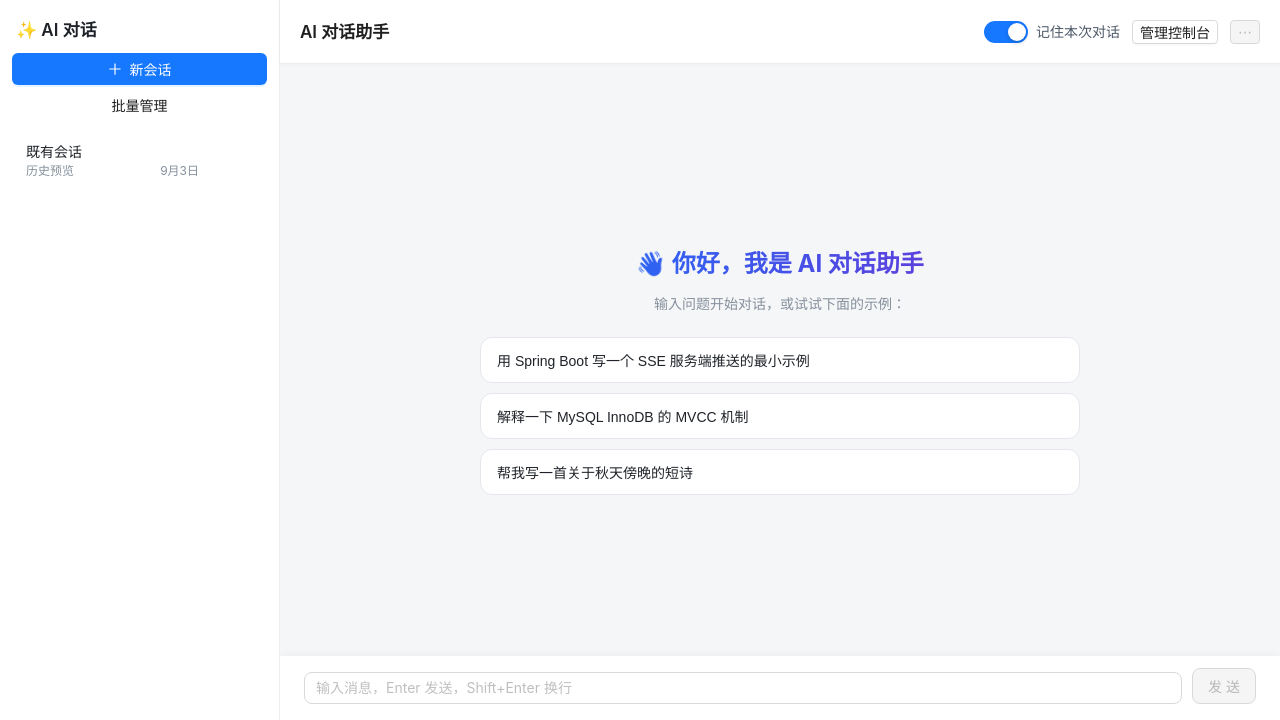
App 集成（AC-17~29） › 流式中切换会话被阻止：提示「生成中，请先停止」且不加载历史
Type "提问中" into the text box with test id "chat-input".
click(743, 688); type("提问中")  # box top-left (304, 672), bottom-right (1182, 704)
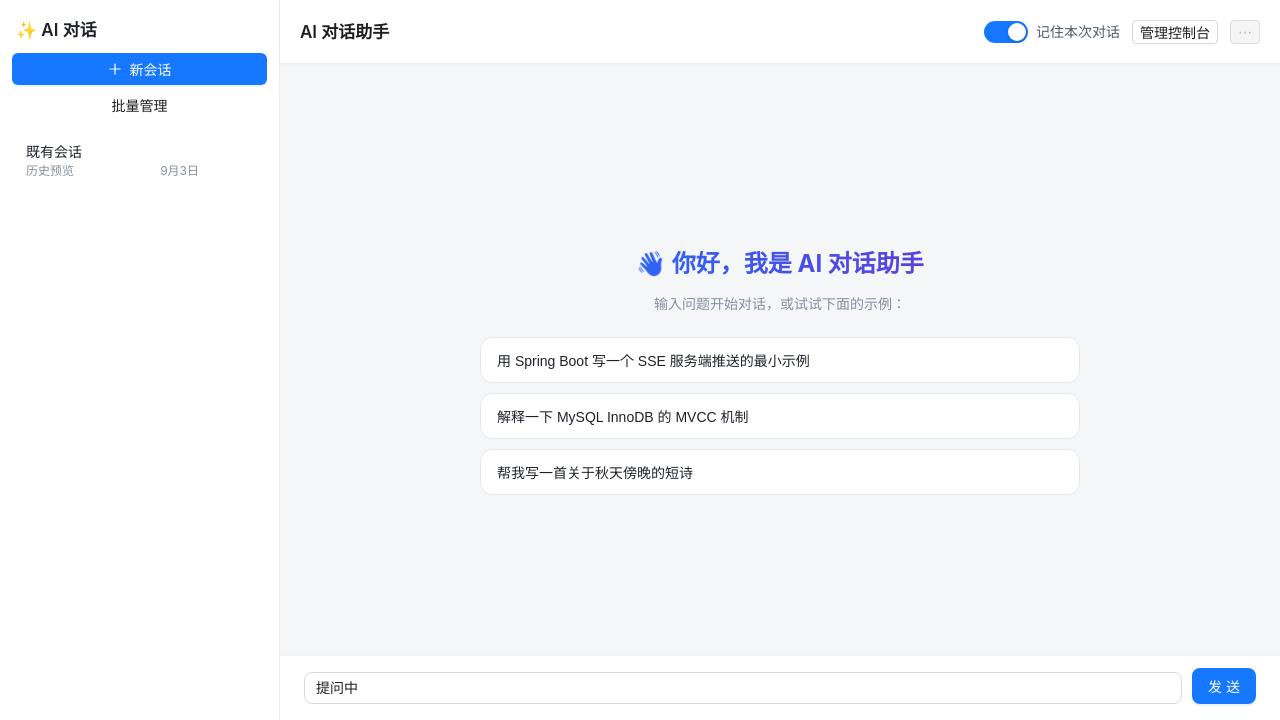
Click the button with test id "chat-send".
click(1224, 686)  # box top-left (1192, 668), bottom-right (1256, 704)
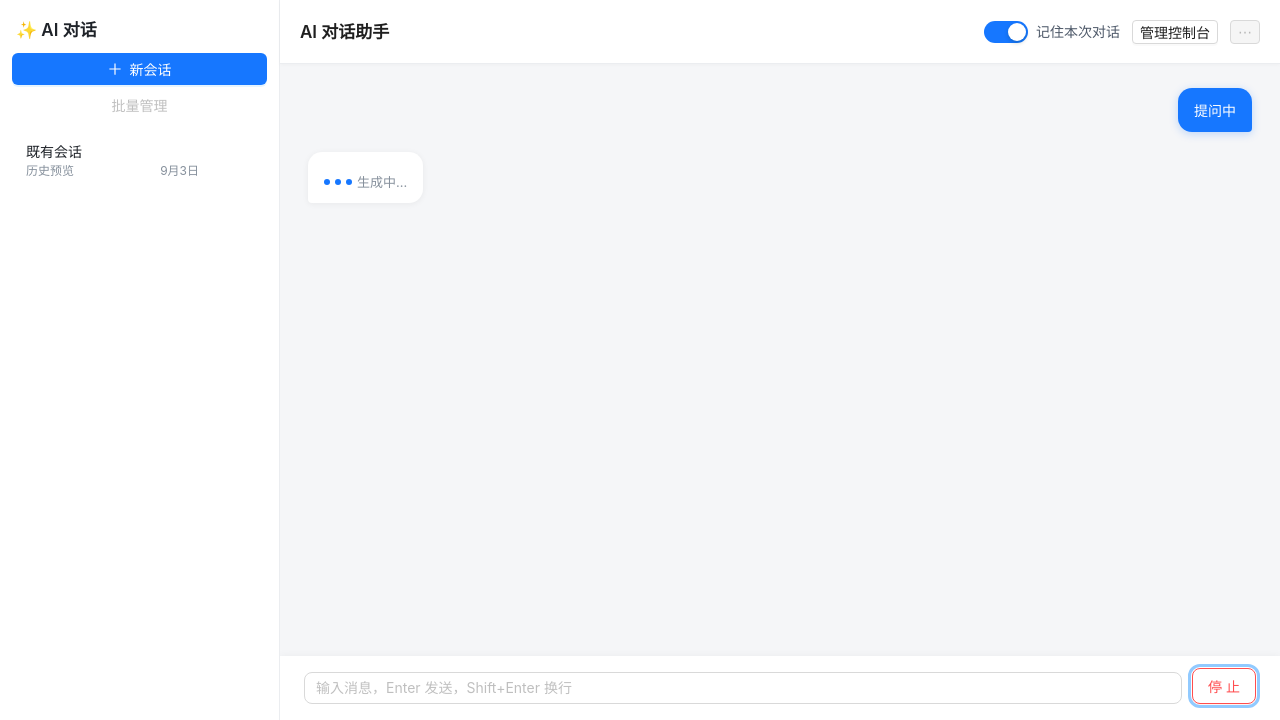
Now the text "提问中" is shown, box top-left (1194, 100), bottom-right (1236, 120)
Click the button "既有会话 9月3日 历史预览".
click(112, 160)  # box top-left (22, 137), bottom-right (203, 182)
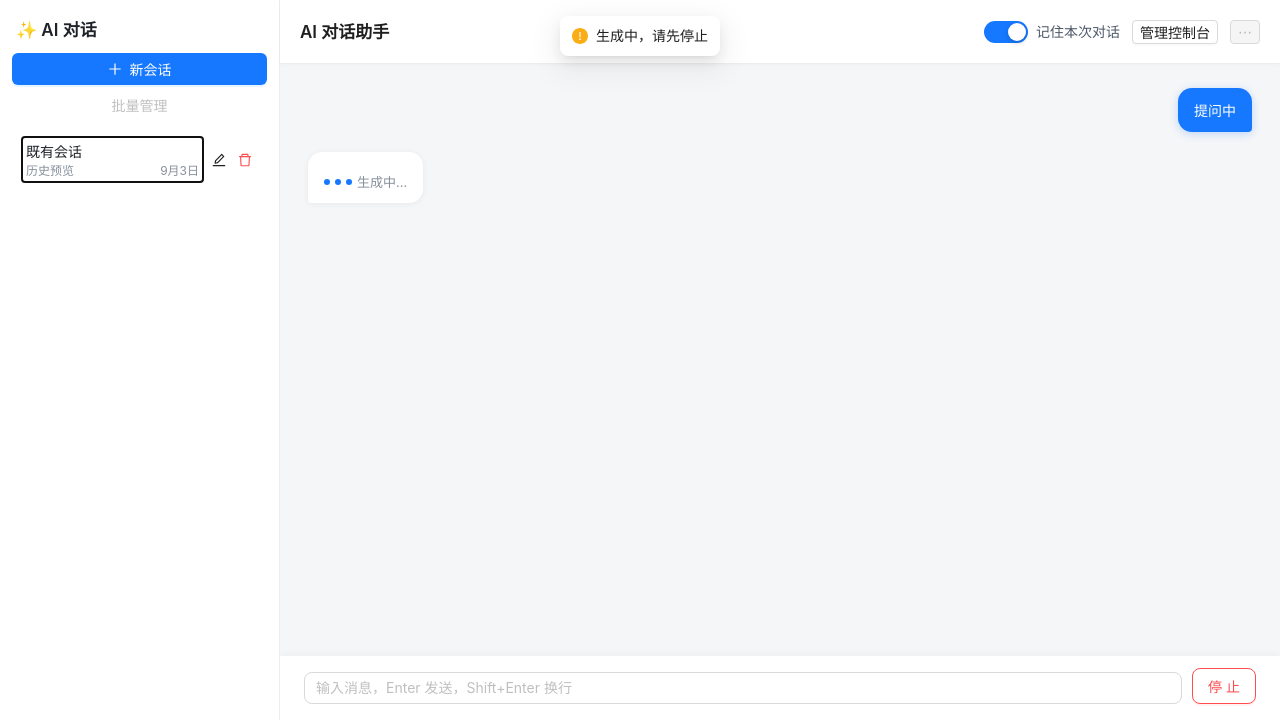
Now the text "生成中，请先停止" is shown, box top-left (596, 25), bottom-right (708, 47)
